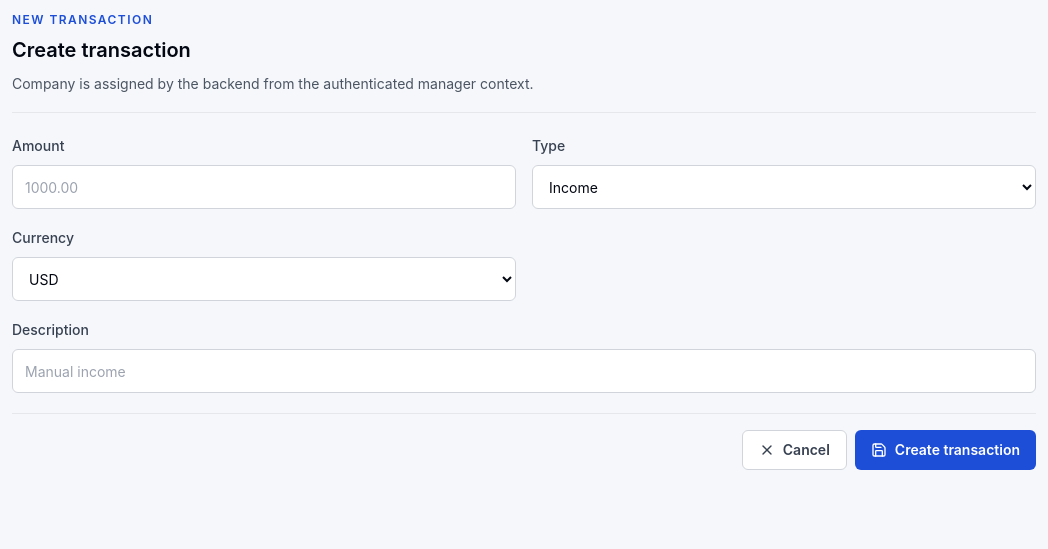
Test: TransactionForm › rejects missing description according to current behavior
The width and height of the screenshot is (1048, 549).
Type "1000" into the field labelled "Amount". click: x=264, y=187
box: x1=12 y1=165 x2=516 y2=209
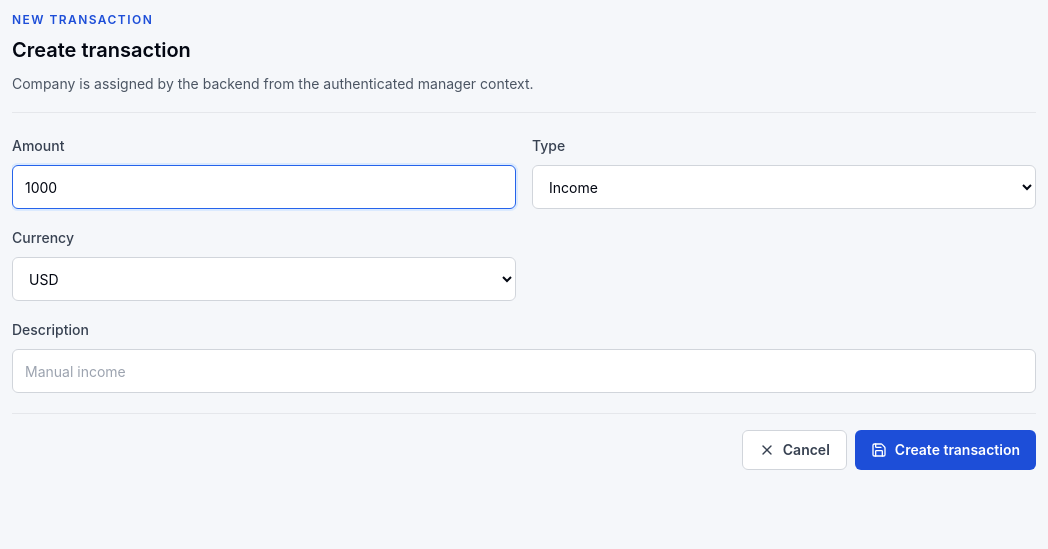
Submit the form "Create transaction"
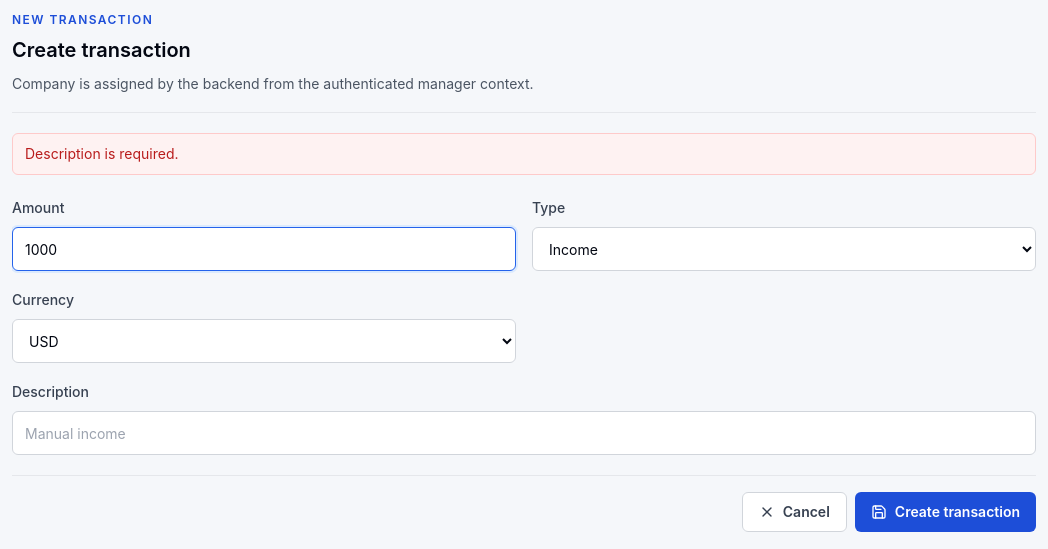
Check: the text "Description is required." is shown, box x1=12 y1=133 x2=1036 y2=175
